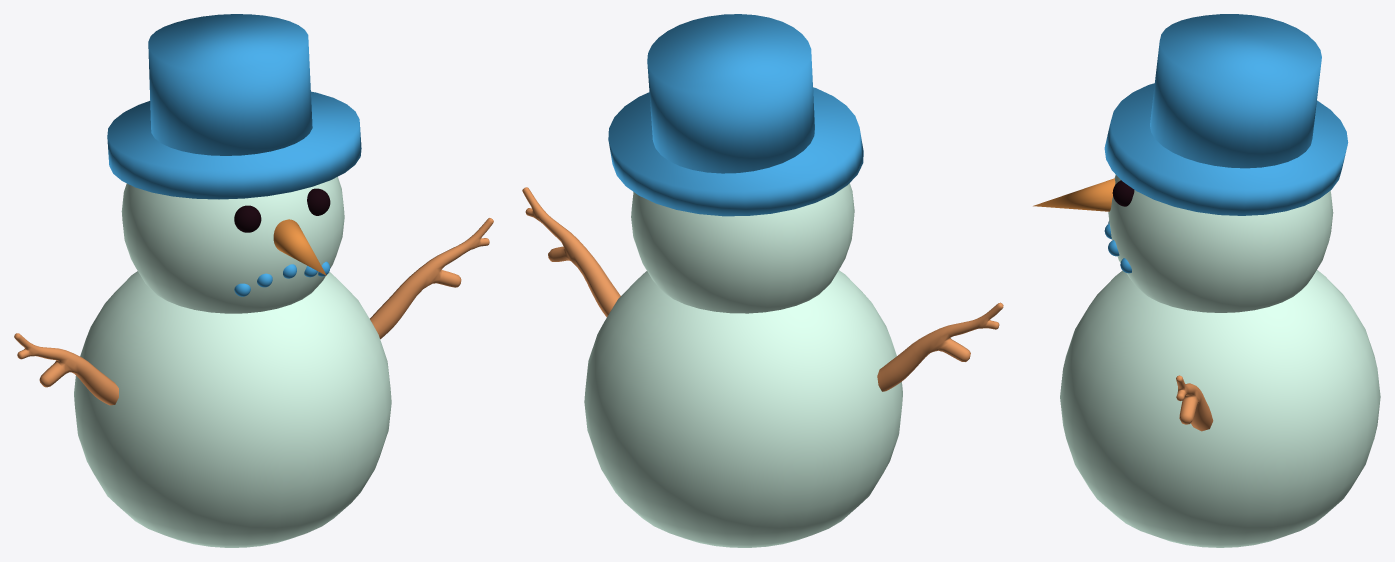
Rendered from SnowmanSadTwo.fbx.
The picture shows the model from 3 angles, left to right: view 1: azimuth 30°, elevation 25°; view 2: azimuth 150°, elevation 25°; view 3: azimuth 270°, elevation 25°; orthographic projection.
Visible parts, largest first — view 1: Sphere, Hat Top, Sphere.001, Hat Rim, Vert.002, Cone, Left eye; view 2: Sphere, Hat Top, Sphere.001, Hat Rim, Vert.002; view 3: Sphere, Hat Top, Sphere.001, Hat Rim, Cone, Vert.002.
Boxes of the visible parts, box(x1,y1,x2,y2) form: Sphere: box(74, 271, 391, 547); Hat Top: box(148, 14, 312, 155); Sphere.001: box(121, 176, 344, 313); Hat Rim: box(107, 91, 361, 199); Vert.002: box(14, 218, 493, 405); Cone: box(273, 219, 326, 275); Left eye: box(234, 205, 261, 232); Sphere: box(584, 270, 902, 547); Hat Top: box(647, 14, 814, 173); Sphere.001: box(631, 183, 854, 313); Hat Rim: box(608, 87, 863, 216); Vert.002: box(522, 187, 1003, 391); Sphere: box(1060, 270, 1380, 547); Hat Top: box(1150, 14, 1321, 168); Sphere.001: box(1108, 175, 1333, 312); Hat Rim: box(1104, 83, 1348, 215); Cone: box(1033, 178, 1115, 211); Vert.002: box(1176, 375, 1213, 431).
Size of the model in its own units: 347 by 333 by 217.
